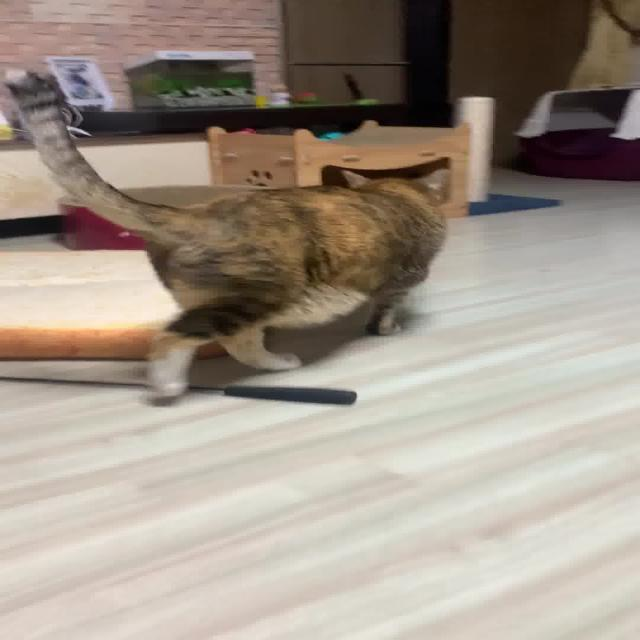cat: (1, 64, 460, 408)
